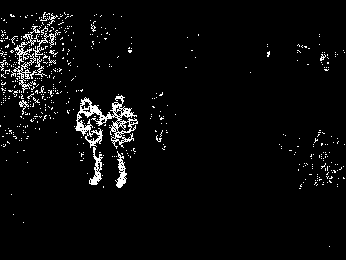person: (103, 94, 138, 190), (74, 96, 108, 187)
